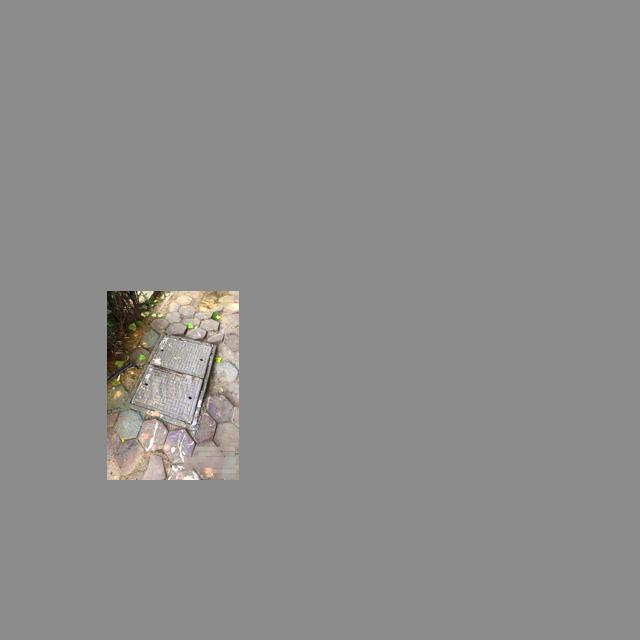good: (125, 332, 216, 430)
